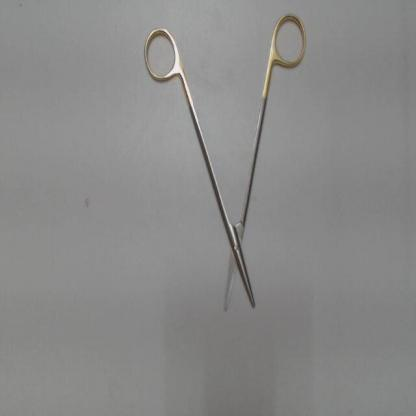7 Metzenbaum Scissors: (139, 9, 310, 319)
